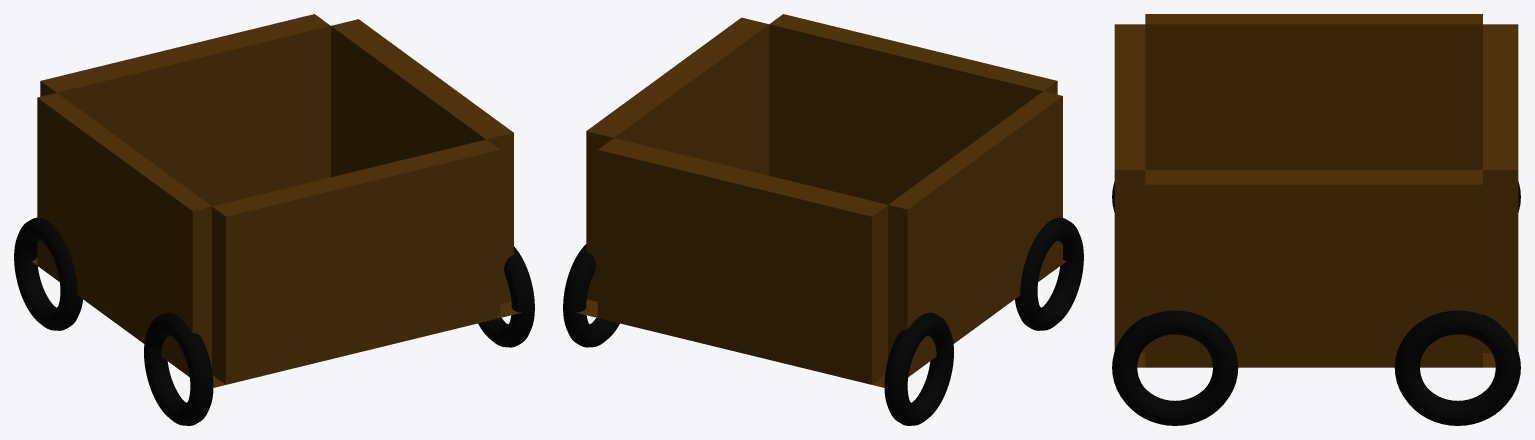
The model's file is Minecart.fbx.
3 renders of one model, left to right at view 1: azimuth 30°, elevation 25°; view 2: azimuth 150°, elevation 25°; view 3: azimuth 270°, elevation 25°, orthographic. The views are drawn at different scales.
Parts seen in each view (by area): view 1: Plane, Wheel4, Wheel2, Wheel3; view 2: Plane, Wheel2, Wheel4, Wheel1; view 3: Plane, Wheel1, Wheel3.
Boxes of the visible parts, x1=… form: Plane: x1=31, y1=14, x2=521, y2=388; Wheel4: x1=144, y1=312, x2=213, y2=425; Wheel2: x1=14, y1=217, x2=82, y2=330; Wheel3: x1=478, y1=246, x2=534, y2=347; Plane: x1=576, y1=14, x2=1066, y2=388; Wheel2: x1=884, y1=312, x2=953, y2=425; Wheel4: x1=1015, y1=217, x2=1083, y2=330; Wheel1: x1=563, y1=244, x2=619, y2=347; Plane: x1=1114, y1=14, x2=1518, y2=367; Wheel1: x1=1394, y1=310, x2=1520, y2=425; Wheel3: x1=1112, y1=310, x2=1238, y2=425.
Size of the model in its own units: 213 by 202 by 131.
